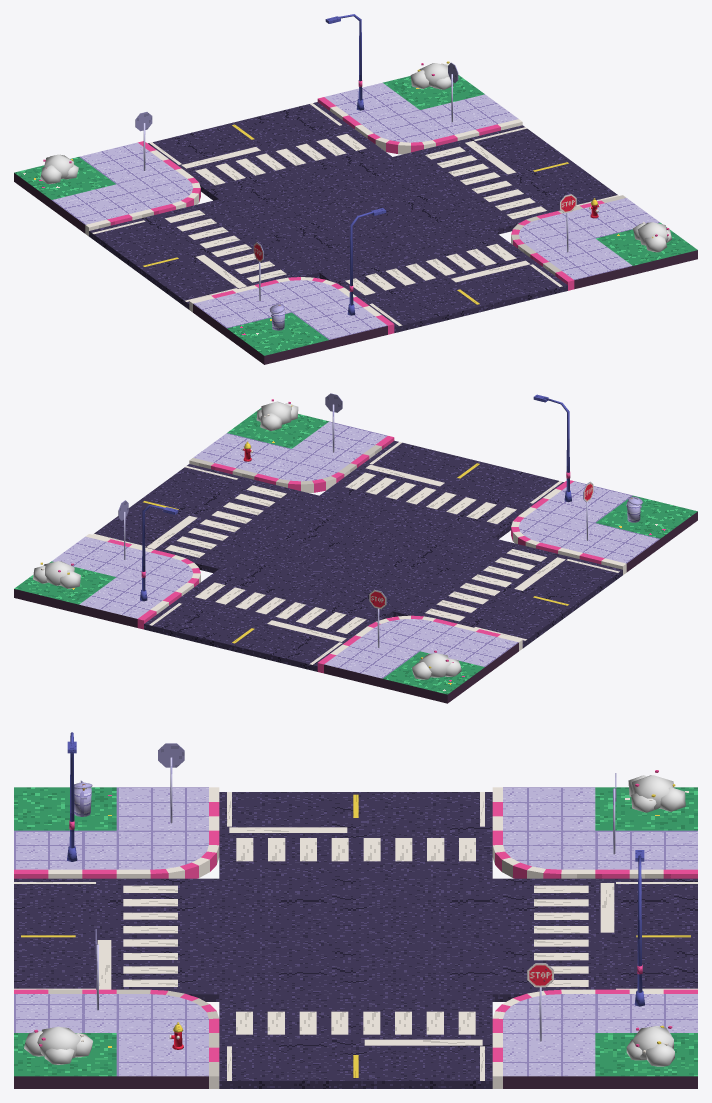
File: Crossroads.fbx
3 renders of one model, top to bottom at view 1: azimuth 30°, elevation 25°; view 2: azimuth 150°, elevation 25°; view 3: azimuth 270°, elevation 25°, orthographic. The views are drawn at different scales.
Parts seen in each view (by area): view 1: Crossroads ground, Crossroads paint; view 2: Crossroads ground, Crossroads paint, Crossroads bush 1 clump 0, Crossroads bush 0 clump 0; view 3: Crossroads ground, Crossroads paint, Crossroads bush 2 clump 0, Crossroads bush 1 clump 0, Crossroads bush 0 clump 0, Crossroads lamp 0 pole, Crossroads stop sign 3 plate, Crossroads stop sign 1 plate, Crossroads bush 0 clump 1.
Part boxes in pixels (bbox=[...]): Crossroads ground: bbox=[14, 75, 697, 364]; Crossroads paint: bbox=[92, 103, 618, 325]; Crossroads ground: bbox=[14, 408, 697, 703]; Crossroads paint: bbox=[93, 442, 619, 664]; Crossroads bush 1 clump 0: bbox=[419, 653, 450, 677]; Crossroads bush 0 clump 0: bbox=[43, 561, 74, 585]; Crossroads ground: bbox=[14, 787, 697, 1088]; Crossroads paint: bbox=[14, 792, 697, 1080]; Crossroads bush 2 clump 0: bbox=[37, 1026, 80, 1058]; Crossroads bush 1 clump 0: bbox=[632, 775, 673, 809]; Crossroads bush 0 clump 0: bbox=[633, 1026, 673, 1059]; Crossroads lamp 0 pole: bbox=[637, 855, 642, 992]; Crossroads stop sign 3 plate: bbox=[527, 963, 553, 987]; Crossroads stop sign 1 plate: bbox=[158, 743, 184, 767]; Crossroads bush 0 clump 1: bbox=[646, 1042, 674, 1066].
Size of the model in its own units: 20 by 4.69 by 20.
28 materials, 23 textured.
